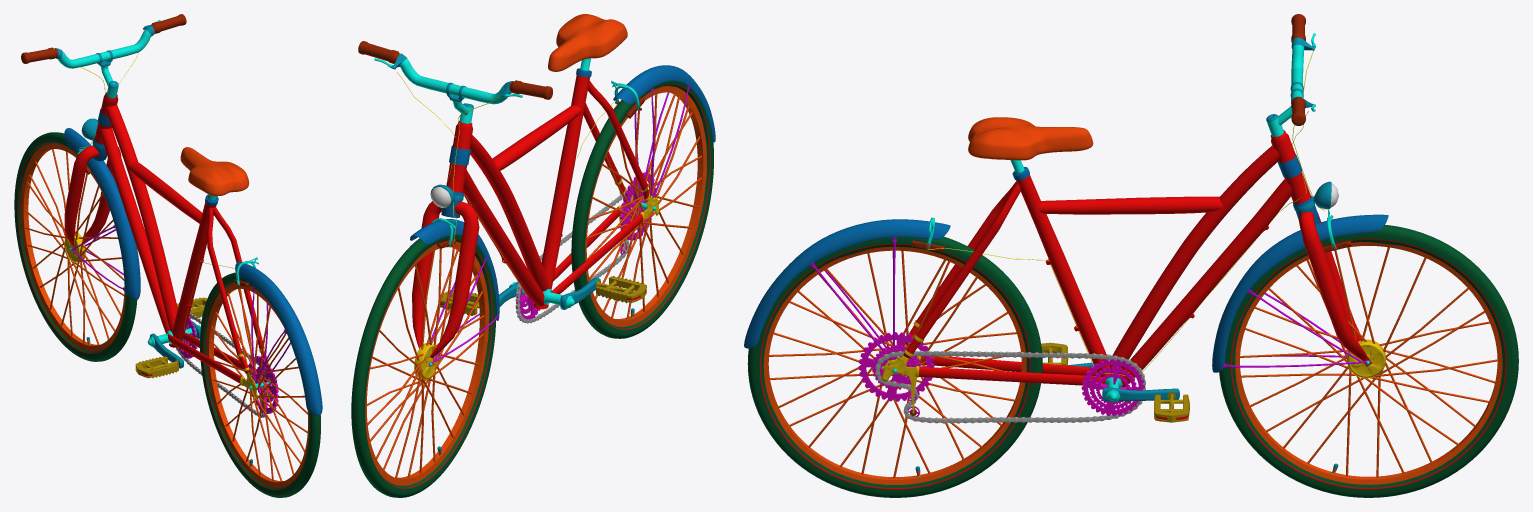
File: m_bike_f.fbx
The picture shows the model from 3 angles, left to right: view 1: azimuth 30°, elevation 25°; view 2: azimuth 150°, elevation 25°; view 3: azimuth 270°, elevation 25°; orthographic projection. The views are drawn at different scales.
Visible parts, largest first — view 1: m_body, m_wheel_f, m_wheel_b, m_steering, m_joint, m_pedal_l, m_gear_b, m_chain; view 2: m_body, m_wheel_f, m_wheel_b, m_steering, m_joint, m_pedal_l, m_chain, m_gear_b; view 3: m_body, m_wheel_f, m_wheel_b, m_steering, m_chain, m_joint, m_gear_b, m_pedal_r.
Boxes of the visible parts, x1,y1,x2,y2 form: m_body: (99, 52, 322, 415); m_wheel_f: (14, 132, 137, 361); m_wheel_b: (200, 272, 320, 497); m_steering: (21, 14, 186, 299); m_joint: (147, 317, 200, 368); m_pedal_l: (135, 356, 178, 378); m_gear_b: (249, 356, 278, 413); m_chain: (176, 312, 277, 417); m_body: (396, 14, 715, 309); m_wheel_f: (351, 235, 496, 497); m_wheel_b: (571, 81, 713, 338); m_steering: (358, 41, 552, 379); m_joint: (499, 277, 600, 319); m_pedal_l: (596, 276, 646, 303); m_chain: (515, 190, 637, 323); m_gear_b: (620, 172, 656, 240); m_body: (744, 111, 1308, 416); m_wheel_f: (1219, 225, 1518, 497); m_wheel_b: (747, 236, 1042, 497); m_steering: (1212, 14, 1388, 378); m_chain: (875, 350, 1145, 423); m_joint: (1067, 359, 1179, 416); m_gear_b: (858, 332, 934, 401); m_pedal_r: (1154, 388, 1189, 422).
Bounding box in the file's own units: 369 × 740 × 1196.
